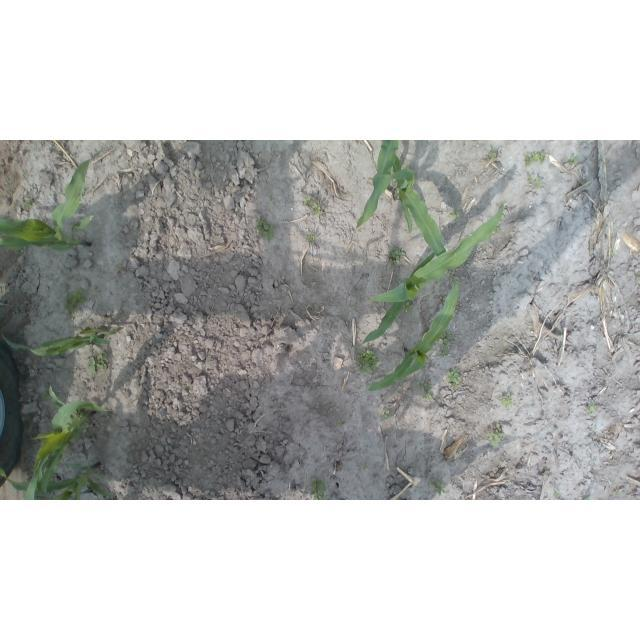Maize: (363, 203, 508, 306), (358, 275, 463, 394), (25, 385, 115, 499), (2, 152, 102, 253), (381, 142, 456, 270), (353, 141, 403, 230), (1, 324, 120, 360), (0, 466, 116, 498)
Weeds: (65, 291, 91, 316), (355, 348, 378, 376), (303, 196, 323, 215), (88, 355, 109, 373), (442, 330, 455, 359), (255, 221, 275, 239), (415, 383, 434, 401), (526, 150, 547, 166), (311, 480, 327, 501), (446, 369, 462, 387), (489, 428, 504, 445), (498, 394, 516, 406), (389, 249, 405, 262), (432, 481, 445, 496), (530, 178, 543, 186), (488, 153, 497, 162), (587, 404, 594, 413), (308, 232, 315, 240), (382, 411, 390, 418), (569, 157, 576, 163)
